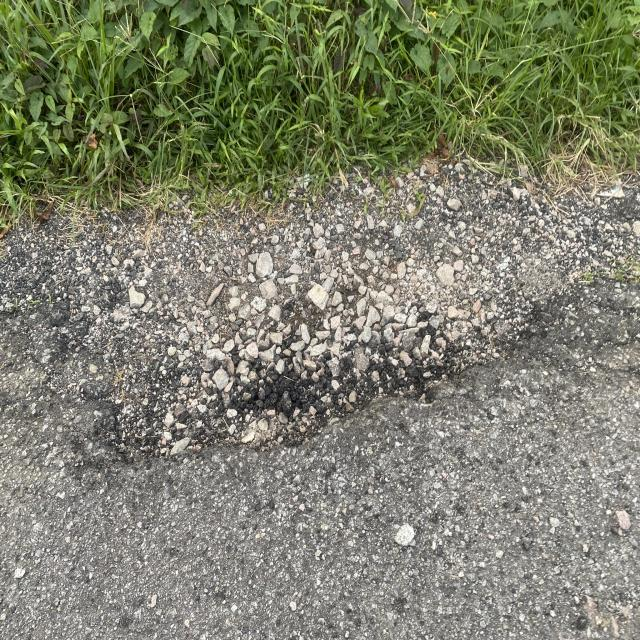pothole: (126, 266, 584, 485)
